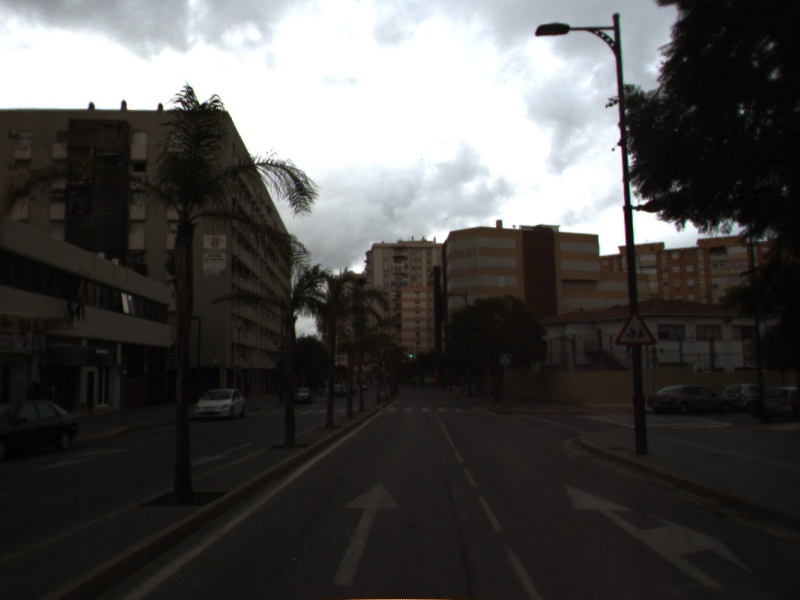STRAIGHT: (328, 480, 403, 588)
STRAIGHT_RIGHT: (563, 482, 758, 589)
